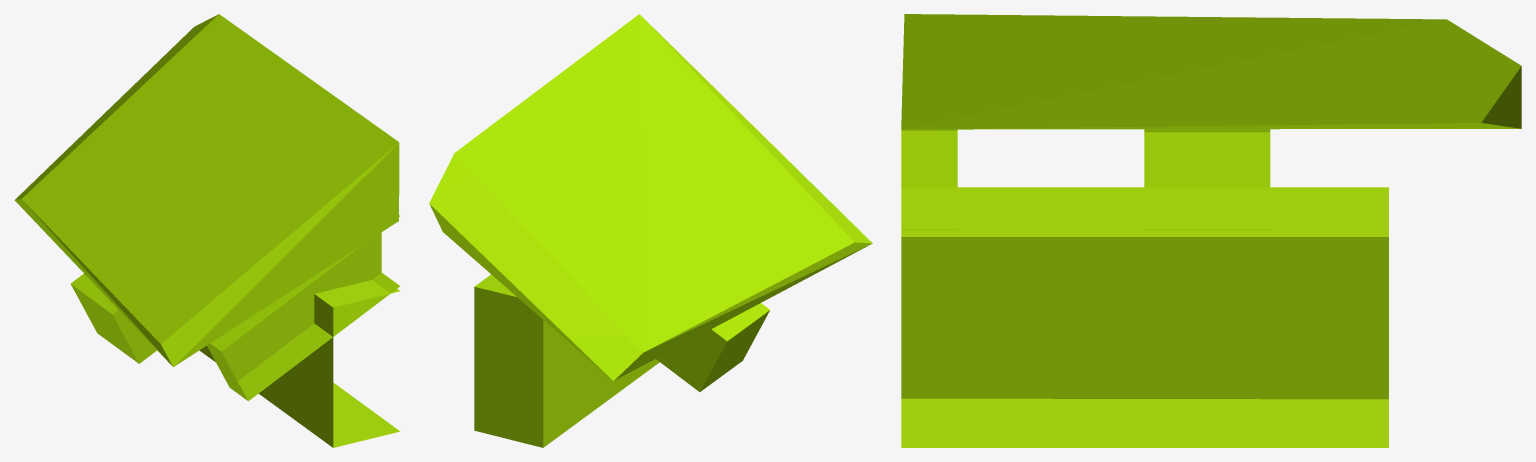
Rendered from WallKit_Verge_End_Right_COL.fbx.
The picture shows the model from 3 angles, left to right: view 1: azimuth 30°, elevation 25°; view 2: azimuth 150°, elevation 25°; view 3: azimuth 270°, elevation 25°; orthographic projection. The views are drawn at different scales.
Visible parts, largest first — view 1: WallKit_Verge_End_Right_COL; view 2: WallKit_Verge_End_Right_COL; view 3: WallKit_Verge_End_Right_COL.
Boxes of the visible parts, box(x1,y1,x2,y2) form: WallKit_Verge_End_Right_COL: box(14, 14, 399, 447); WallKit_Verge_End_Right_COL: box(429, 14, 872, 447); WallKit_Verge_End_Right_COL: box(901, 14, 1521, 447).
Size of the model in its own units: 69.84 by 84.99 by 110.
